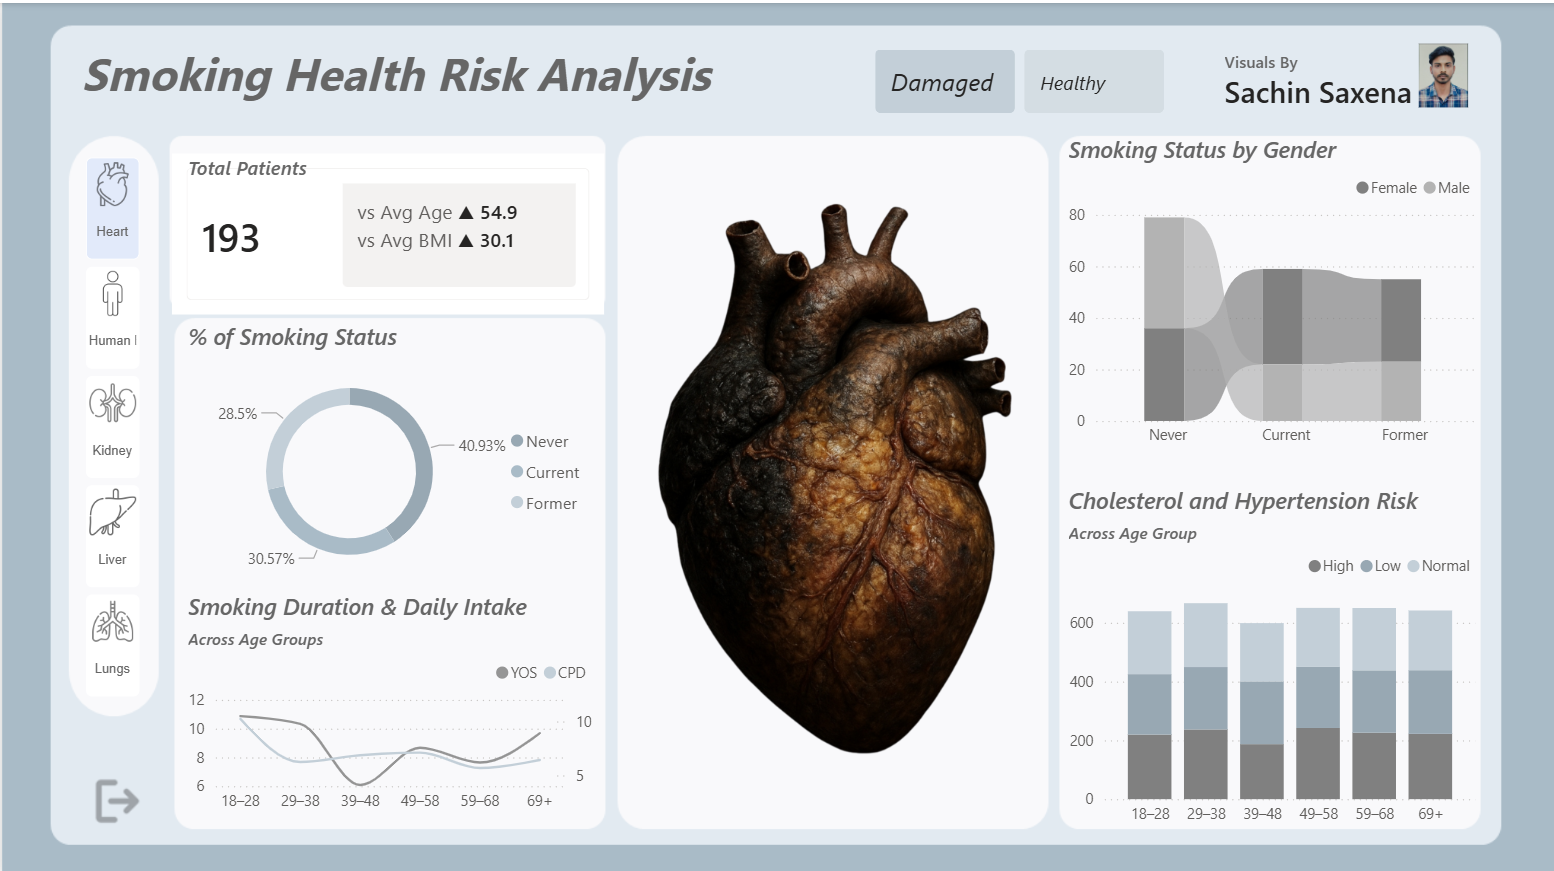

This screenshot's page, from the dashboard's own definition file:
{"tool":"powerbi","page":{"name":"Page 1","canvas":[1280,720],"ordinal":0},"visuals":[{"type":"cardVisual","fields":{"Data":["CountNonNull(health_dataset.Patient_ID)"]},"box":[134.8,118.1,366.4,143.8],"z":0},{"type":"textbox","box":[148.4,118.1,249.8,57.5],"z":1000},{"type":"advancedSlicerVisual","fields":{"Values":["condition.Organ_Condition"]},"box":[714.7,33.3,249.8,62.1],"z":2000},{"type":"image","box":[513.3,118.1,346.8,557.2],"z":3000},{"type":"ChicletSlicer1448559807354","fields":{"Category":["Organs.Organ"],"Image":["Organs.Icon_URL"]},"box":[60.6,118.1,74.2,475.5],"z":4000},{"type":"donutChart","title":"% of Smoking Status","fields":{"Category":["health_dataset.Smoking_Status"],"Y":["CountNonNull(health_dataset.Smoking_Status)"]},"box":[148.4,262,342.2,222.6],"z":5000},{"type":"lineChart","title":"Smoking Duration & Daily Intake","fields":{"Category":["health_dataset.Age Group"],"Y":["Avg(health_dataset.Years_of_Smoking)"],"Y2":["Avg(health_dataset.Cigarettes_Per_Day)"]},"box":[148.4,484.5,342.2,190.8],"z":6000},{"type":"ribbonChart","title":"Smoking Status by Gender","fields":{"Category":["health_dataset.Smoking_Status"],"Y":["CountNonNull(health_dataset.Patient_ID)"],"Series":["health_dataset.Gender"]},"box":[873.7,107.5,345.2,266.5],"z":7000},{"type":"columnChart","title":"Cholesterol and Hypertension Risk","fields":{"Category":["health_dataset.Age Group"],"Y":["Avg(health_dataset.Cholesterol_Level)"],"Series":["health_dataset.BP_Risk"]},"box":[873.7,396.7,345.2,289.2],"z":8000},{"type":"textbox","box":[60.6,27.3,579.9,80.3],"z":9000},{"type":"textbox","box":[1002.4,33.3,277.1,307.4],"z":10000},{"type":"image","box":[1141.7,33.3,90.9,53],"z":11000}]}

Visuals, with their boxes in screenshot pixels (x1, y1, x2, y2), scaled from the page's 1280x720 canvas onto the 1554x871 screenshot:
cardVisual - CountNonNull(health_dataset.Patient_ID): locate(164, 143, 608, 317)
textbox: locate(180, 143, 483, 212)
advancedSlicerVisual - condition.Organ_Condition: locate(868, 40, 1171, 115)
image: locate(623, 143, 1044, 817)
ChicletSlicer1448559807354 - Organs.Organ x Organs.Icon_URL: locate(74, 143, 164, 718)
"% of Smoking Status" donutChart: locate(180, 317, 596, 586)
"Smoking Duration & Daily Intake" lineChart: locate(180, 586, 596, 817)
"Smoking Status by Gender" ribbonChart: locate(1061, 130, 1480, 452)
"Cholesterol and Hypertension Risk" columnChart: locate(1061, 480, 1480, 830)
textbox: locate(74, 33, 778, 130)
textbox: locate(1217, 40, 1553, 412)
image: locate(1386, 40, 1496, 104)
